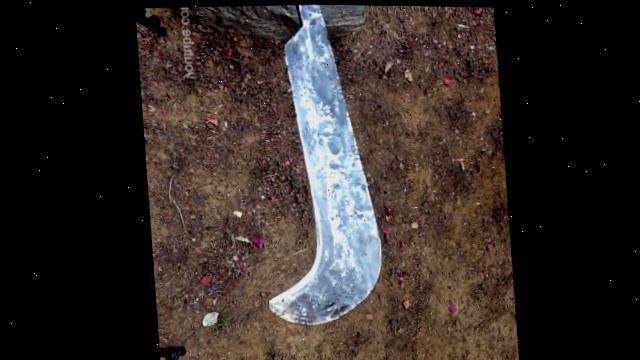long knife: (241, 3, 390, 328)
